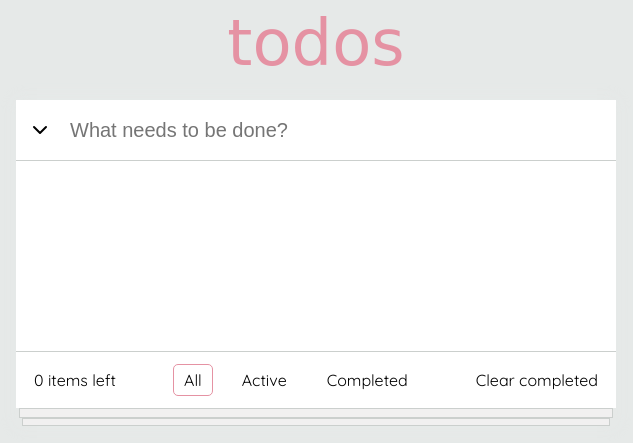
Test: Todo (Critical Functionality Only) › adds new task
Note: Ввод и добавление
In the field with placeholder "What needs to be done?": (337, 130) [70,118,604,142], type "Buy milk"
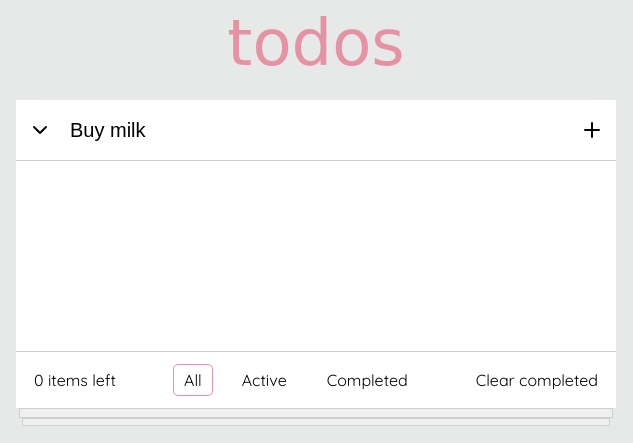
Press Enter
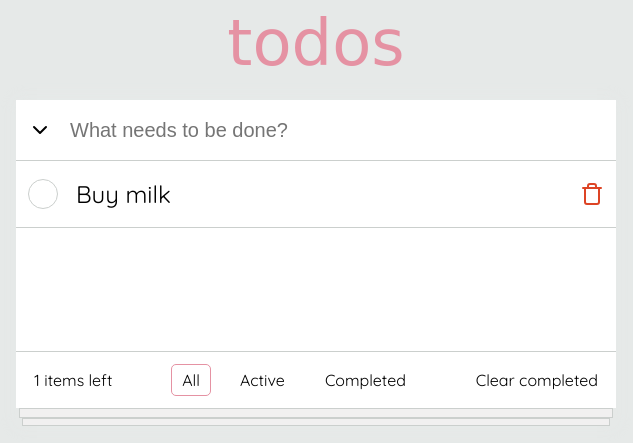
Check: the list item "Buy milk" is shown, box [76,179,562,209]
